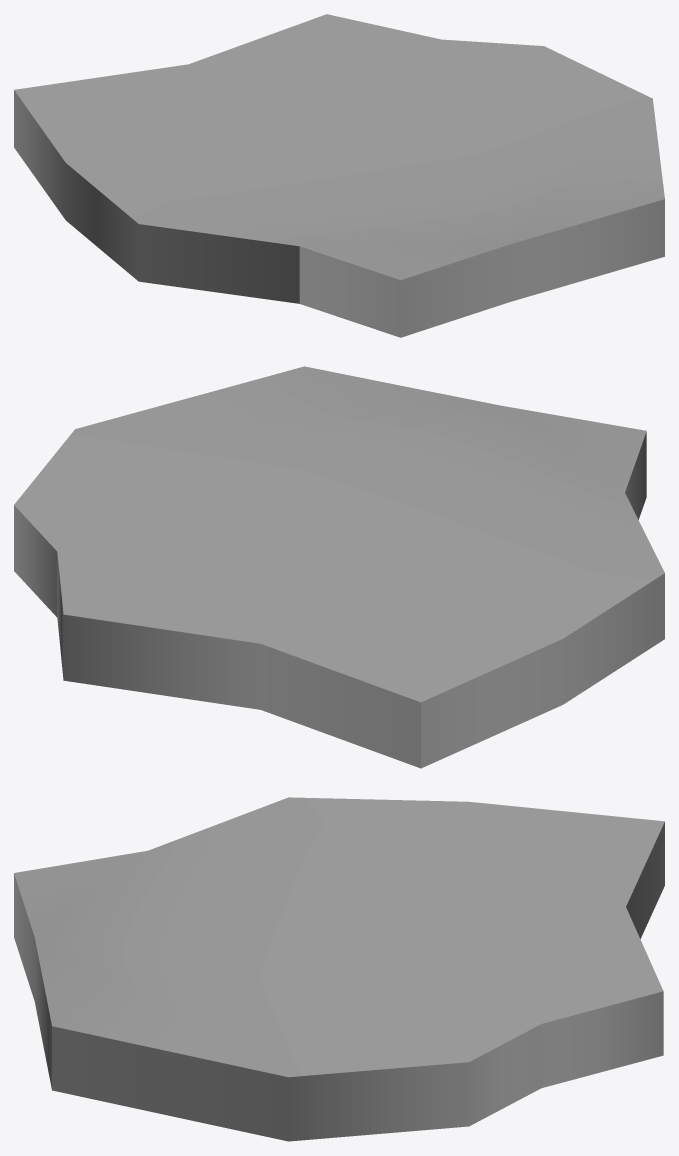
File: Rock 17.FBX
The picture shows the model from 3 angles, top to bottom: view 1: azimuth 30°, elevation 25°; view 2: azimuth 150°, elevation 25°; view 3: azimuth 270°, elevation 25°; orthographic projection. The views are drawn at different scales.
Visible parts, largest first — view 1: Box001; view 2: Box001; view 3: Box001.
Part boxes in pixels (<box>): Box001: <box>14,14,664,337</box>; Box001: <box>14,366,664,768</box>; Box001: <box>14,797,664,1141</box>.
Bounding box in the file's own units: 45.41 × 4.86 × 44.64.
